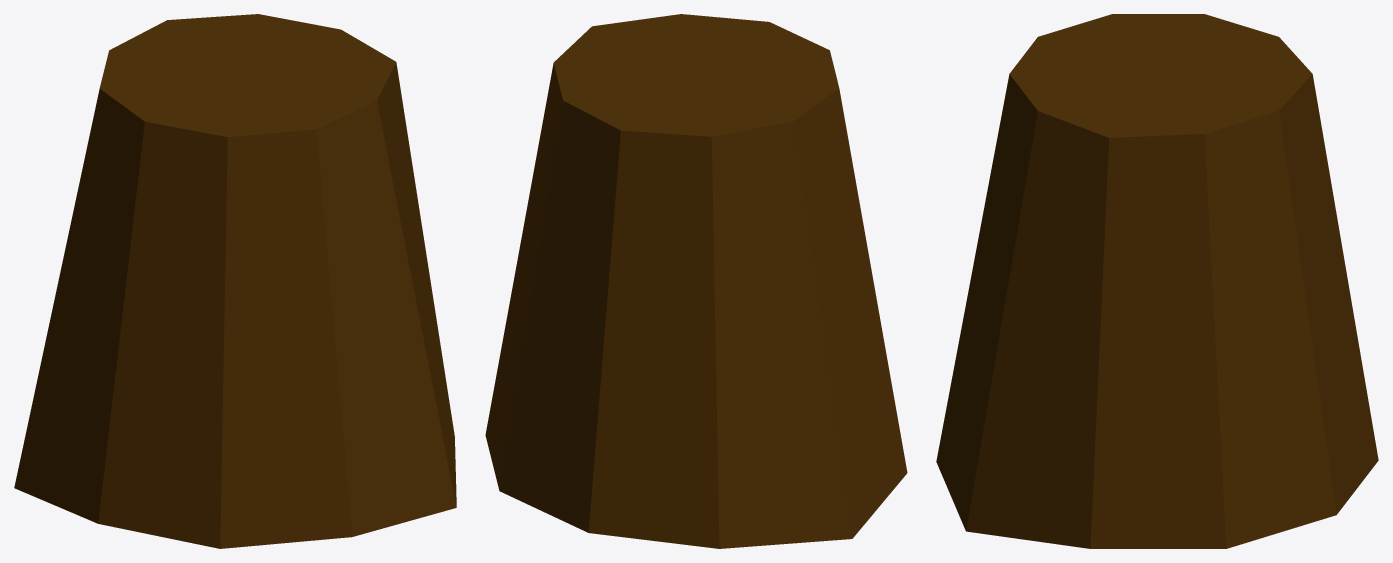
The picture shows the model from 3 angles, left to right: view 1: azimuth 30°, elevation 25°; view 2: azimuth 150°, elevation 25°; view 3: azimuth 270°, elevation 25°; orthographic projection. The views are drawn at different scales.
Visible parts, largest first — view 1: Цилиндр.015; view 2: Цилиндр.015; view 3: Цилиндр.015.
Part boxes in pixels (x1=…): Цилиндр.015: x1=14, y1=14, x2=456, y2=548; Цилиндр.015: x1=485, y1=14, x2=907, y2=548; Цилиндр.015: x1=936, y1=14, x2=1378, y2=548.
Size of the model in its own units: 2932 by 2960 by 2977.
